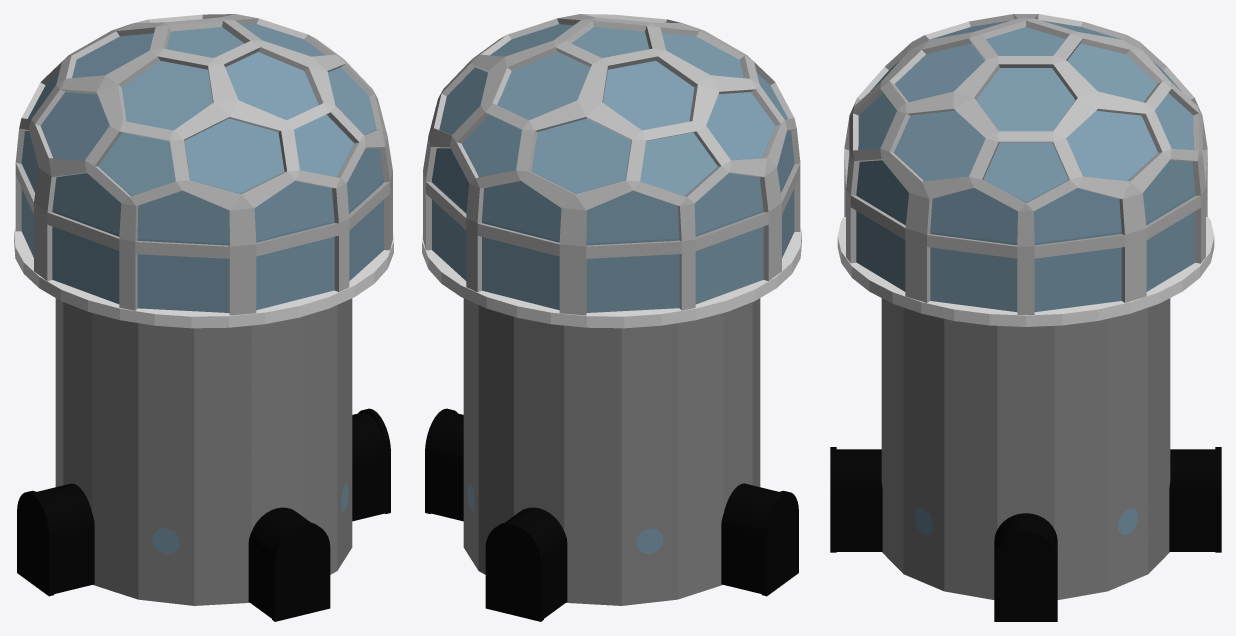
Rendered from lookout.fbx.
The picture shows the model from 3 angles, left to right: view 1: azimuth 30°, elevation 25°; view 2: azimuth 150°, elevation 25°; view 3: azimuth 270°, elevation 25°; orthographic projection.
Parts seen in each view (by area): view 1: Body, Dome glass, Dome frame, Top floor, connector wall, connector.001, connector.002, connector wall.001, connector, connector wall.002; view 2: Body, Dome glass, Dome frame, Top floor, connector wall.003, connector.001, connector.002, connector wall.001, connector.003, connector wall.002; view 3: Body, Dome glass, Dome frame, Top floor, connector wall.002, connector.003, connector, connector.002, connector wall.003, connector wall.
Part boxes in pixels (x1=…): Body: x1=55, y1=298, x2=352, y2=605; Dome glass: x1=21, y1=24, x2=383, y2=312; Dome frame: x1=15, y1=14, x2=392, y2=315; Top floor: x1=14, y1=228, x2=393, y2=328; connector wall: x1=272, y1=522, x2=330, y2=621; connector.001: x1=37, y1=483, x2=94, y2=593; connector.002: x1=352, y1=412, x2=386, y2=521; connector wall.001: x1=17, y1=490, x2=54, y2=596; connector: x1=248, y1=507, x2=309, y2=618; connector wall.002: x1=358, y1=408, x2=390, y2=513; Body: x1=463, y1=298, x2=760, y2=605; Dome glass: x1=432, y1=24, x2=794, y2=312; Dome frame: x1=423, y1=14, x2=800, y2=315; Top floor: x1=422, y1=228, x2=801, y2=328; connector wall.003: x1=485, y1=522, x2=543, y2=621; connector.001: x1=721, y1=483, x2=778, y2=593; connector.002: x1=429, y1=412, x2=463, y2=521; connector wall.001: x1=761, y1=490, x2=798, y2=596; connector.003: x1=506, y1=507, x2=567, y2=618; connector wall.002: x1=425, y1=408, x2=457, y2=513; Body: x1=881, y1=298, x2=1170, y2=599; Dome glass: x1=856, y1=20, x2=1195, y2=311; Dome frame: x1=844, y1=14, x2=1207, y2=314; Top floor: x1=837, y1=216, x2=1214, y2=326; connector wall.002: x1=994, y1=530, x2=1057, y2=621; connector.003: x1=1169, y1=449, x2=1215, y2=551; connector: x1=836, y1=449, x2=882, y2=551; connector.002: x1=994, y1=513, x2=1057, y2=557; connector wall.003: x1=1215, y1=447, x2=1221, y2=552; connector wall: x1=830, y1=447, x2=836, y2=552.
Size of the model in its own units: 618 by 870 by 618.
